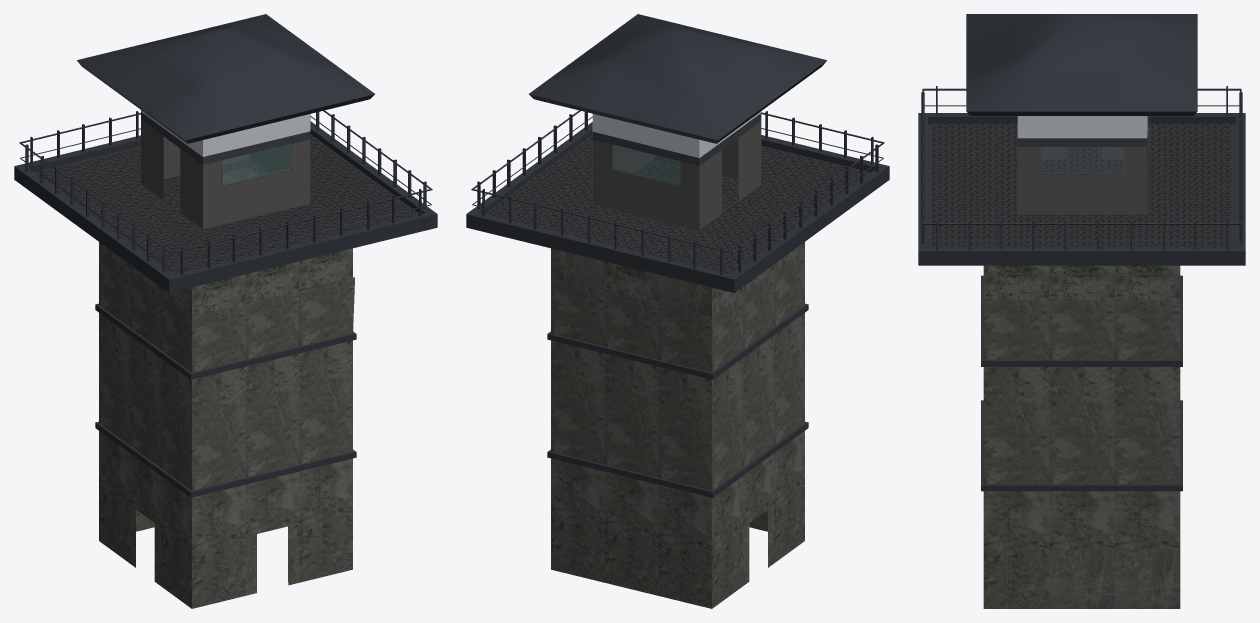
File: finalwatchtower.glb
3 renders of one model, left to right at view 1: azimuth 30°, elevation 25°; view 2: azimuth 150°, elevation 25°; view 3: azimuth 270°, elevation 25°, orthographic. The views are drawn at different scales.
Parts seen in each view (by area): view 1: watchtower_building_Prison_atlas_0; view 2: watchtower_building_Prison_atlas_0; view 3: watchtower_building_Prison_atlas_0.
Part boxes in pixels (x1,y1,x2,y2): watchtower_building_Prison_atlas_0: (14, 14, 437, 608); watchtower_building_Prison_atlas_0: (466, 14, 889, 608); watchtower_building_Prison_atlas_0: (918, 14, 1245, 608).
Bounding box in the file's own units: 10 × 18.66 × 10.
6 materials, 2 textured.
